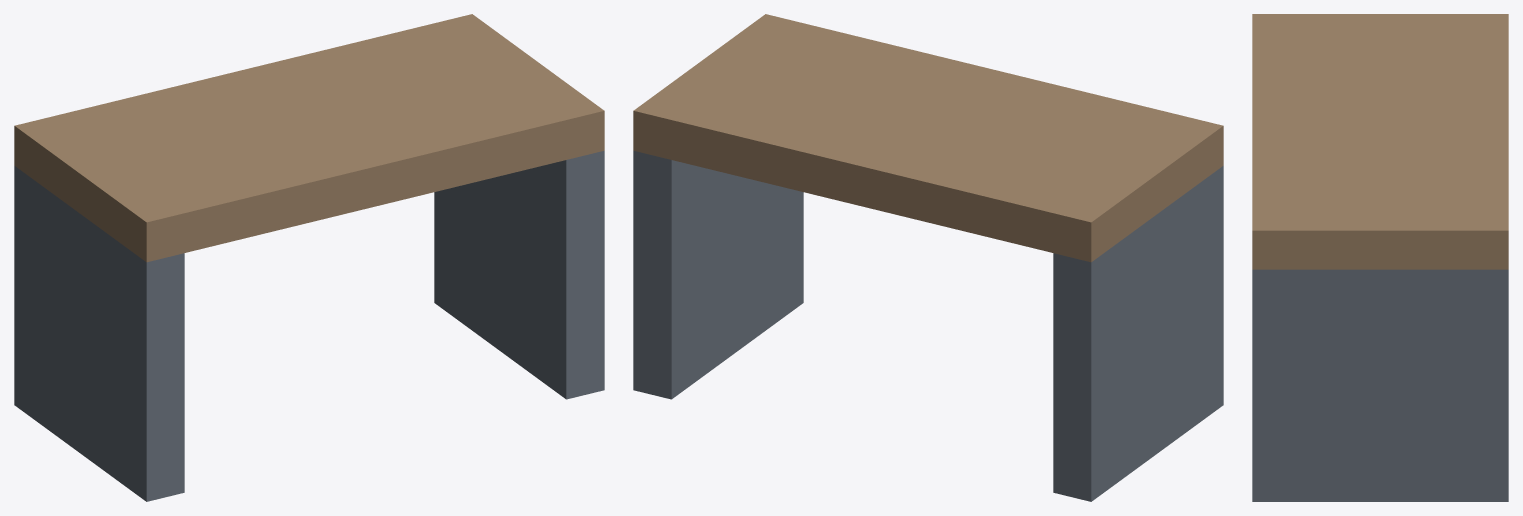
The model's file is kit_int_desk.glb.
The picture shows the model from 3 angles, left to right: view 1: azimuth 30°, elevation 25°; view 2: azimuth 150°, elevation 25°; view 3: azimuth 270°, elevation 25°; orthographic projection. The views are drawn at different scales.
Visible parts, largest first — view 1: kit_int_desk-col; view 2: kit_int_desk-col; view 3: kit_int_desk-col.
Part boxes in pixels (box(x1,y1,x2,y2)): kit_int_desk-col: box(14, 14, 604, 501); kit_int_desk-col: box(633, 14, 1223, 501); kit_int_desk-col: box(1252, 14, 1508, 501).
Size of the model in its own units: 1.5 by 0.875 by 0.75.
